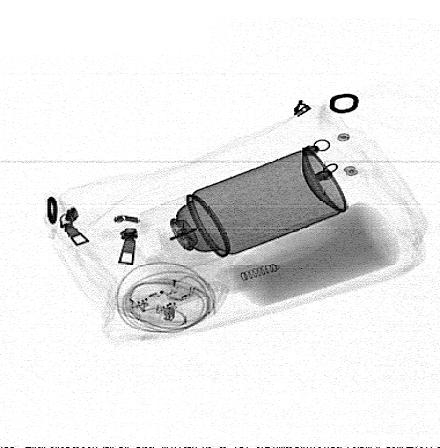Sprayer: (140, 147, 348, 275)
